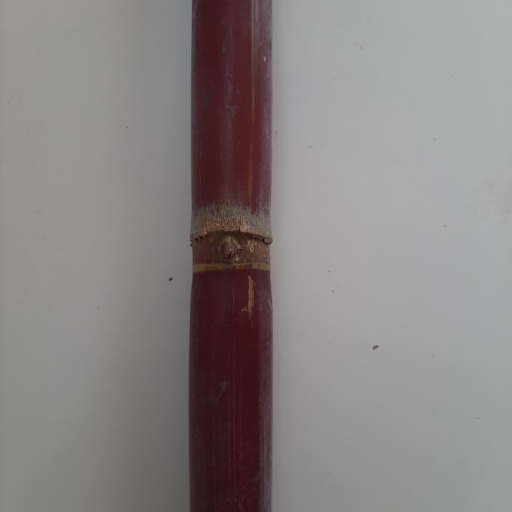Bud: (215, 235, 240, 262)
